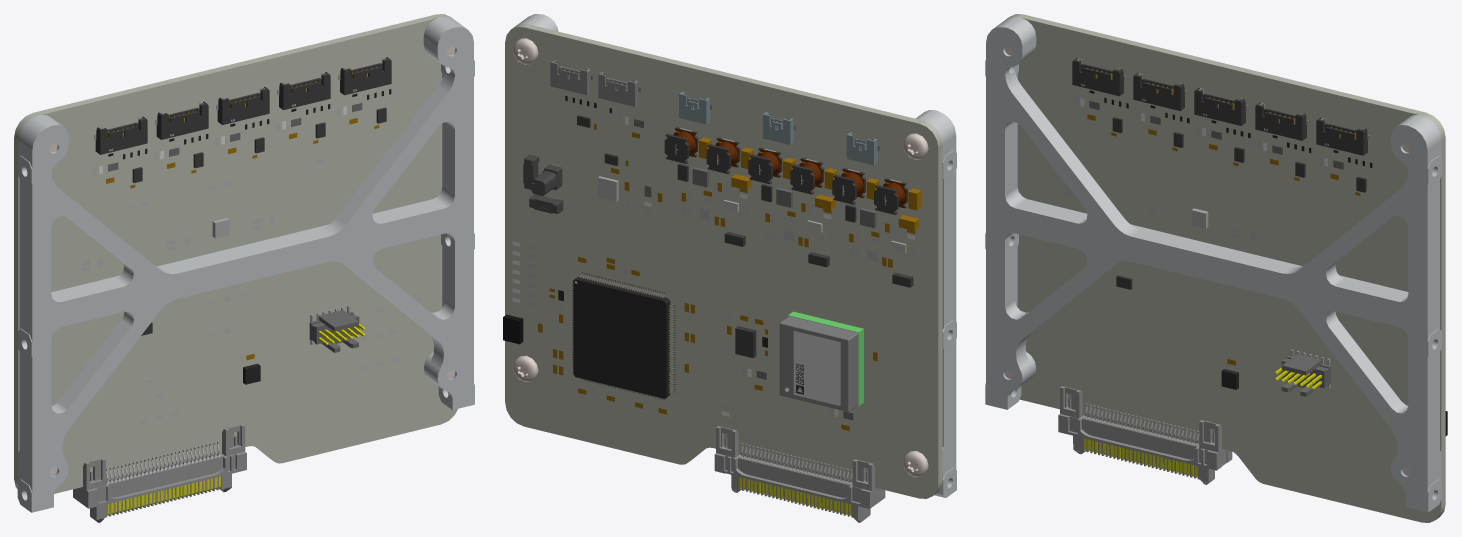
The model's file is adcs1.glb.
The picture shows the model from 3 angles, left to right: view 1: azimuth 30°, elevation 25°; view 2: azimuth 150°, elevation 25°; view 3: azimuth 330°, elevation 25°; orthographic projection.
Parts seen in each view (by area): view 1: board, parts, if_0, decals, if_1, blocks, if_11, if_10, if_9, if_8, if_7; view 2: board, parts, if_0, blocks, decals, if_2, if_3, inst_0_2, inst_0_4, inst_0_5, inst_0_0, inst_0_1 (+8 smaller); view 3: board, parts, if_0, decals, if_1, blocks, if_8, if_7, if_9, if_11, if_10.
Boxes of the visible parts, x1,y1,x2,y2 form: board: (14, 14, 457, 493); parts: (17, 17, 474, 512); if_0: (73, 424, 246, 522); decals: (81, 89, 397, 424); if_1: (309, 305, 364, 352); blocks: (132, 107, 386, 384); if_11: (94, 116, 147, 154); if_10: (155, 101, 208, 139); if_9: (216, 87, 269, 124); if_8: (277, 72, 330, 110); if_7: (338, 57, 391, 95); board: (505, 24, 942, 498); parts: (515, 14, 956, 497); if_0: (714, 426, 885, 522); blocks: (503, 115, 921, 358); decals: (512, 96, 916, 430); if_2: (550, 60, 592, 94); if_3: (598, 72, 640, 106); inst_0_2: (706, 137, 740, 174); inst_0_4: (748, 147, 782, 184); inst_0_5: (664, 127, 698, 163); inst_0_0: (874, 178, 907, 214); inst_0_1: (790, 157, 823, 194); board: (1006, 14, 1445, 522); parts: (985, 17, 1441, 512); if_0: (1058, 386, 1232, 484); decals: (1063, 90, 1378, 438); if_1: (1275, 349, 1331, 396); blocks: (1112, 117, 1447, 435); if_8: (1255, 102, 1308, 140); if_7: (1316, 117, 1369, 155); if_9: (1194, 87, 1247, 125); if_11: (1072, 58, 1125, 96); if_10: (1133, 73, 1186, 110).
Size of the model in its own units: 92.3 by 83.88 by 13.98.
